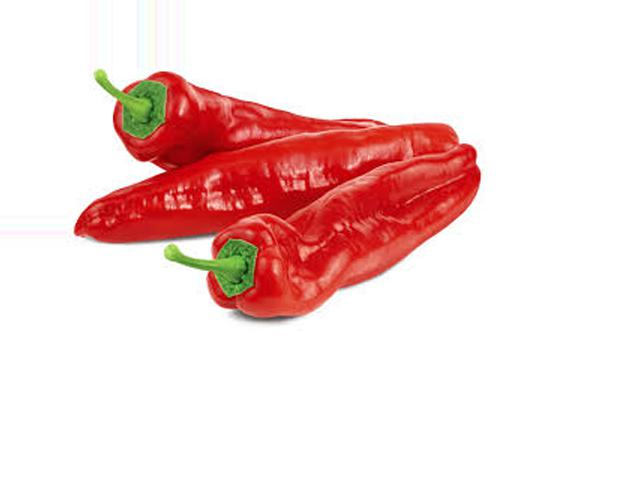bell_pepper: (155, 181, 484, 328)
